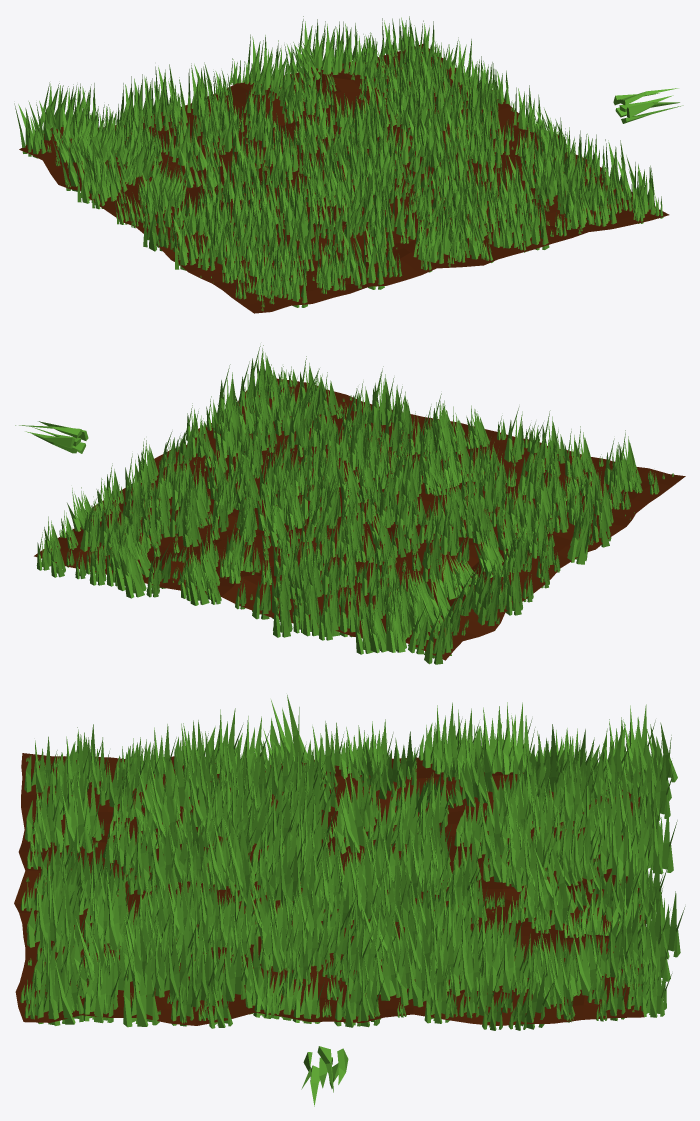
File: grass.fbx
3 views of the same model, one above another, from view 1: azimuth 30°, elevation 25°; view 2: azimuth 150°, elevation 25°; view 3: azimuth 270°, elevation 25° (orthographic). The views are drawn at different scales.
Parts seen in each view (by area): view 1: Plane, Grass, Plane|Grass|Dupli|912.0.0.0.0.0.0.0.0.0, Plane|Grass|Dupli|510.0.0.0.0.0.0.0.0.0, Plane|Grass|Dupli|917.0.0.0.0.0.0.0.0.0, Plane|Grass|Dupli|627.0.0.0.0.0.0.0.0.0, Plane|Grass|Dupli|881.0.0.0.0.0.0.0.0.0, Plane|Grass|Dupli|890.0.0.0.0.0.0.0.0.0, Plane|Grass|Dupli|746.0.0.0.0.0.0.0.0.0, Plane|Grass|Dupli|767.0.0.0.0.0.0.0.0.0, Plane|Grass|Dupli|994.0.0.0.0.0.0.0.0.0, Plane|Grass|Dupli|660.0.0.0.0.0.0.0.0.0 (+17 smaller); view 2: Plane, Grass, Plane|Grass|Dupli|944.0.0.0.0.0.0.0.0.0, Plane|Grass|Dupli|912.0.0.0.0.0.0.0.0.0, Plane|Grass|Dupli|994.0.0.0.0.0.0.0.0.0, Plane|Grass|Dupli|955.0.0.0.0.0.0.0.0.0, Plane|Grass|Dupli|964.0.0.0.0.0.0.0.0.0, Plane|Grass|Dupli|985.0.0.0.0.0.0.0.0.0, Plane|Grass|Dupli|988.0.0.0.0.0.0.0.0.0, Plane|Grass|Dupli|99.0.0.0.0.0.0.0.0.0, Plane|Grass|Dupli|247.0.0.0.0.0.0.0.0.0, Plane|Grass|Dupli|971.0.0.0.0.0.0.0.0.0 (+12 smaller); view 3: Plane, Plane|Grass|Dupli|251.0.0.0.0.0.0.0.0.0, Grass, Plane|Grass|Dupli|964.0.0.0.0.0.0.0.0.0, Plane|Grass|Dupli|99.0.0.0.0.0.0.0.0.0, Plane|Grass|Dupli|314.0.0.0.0.0.0.0.0.0, Plane|Grass|Dupli|250.0.0.0.0.0.0.0.0.0, Plane|Grass|Dupli|627.0.0.0.0.0.0.0.0.0, Plane|Grass|Dupli|503.0.0.0.0.0.0.0.0.0, Plane|Grass|Dupli|341.0.0.0.0.0.0.0.0.0, Plane|Grass|Dupli|247.0.0.0.0.0.0.0.0.0, Plane|Grass|Dupli|111.0.0.0.0.0.0.0.0.0 (+93 smaller).
Boxes of the visible parts, <box> form: Plane: <box>19,44,669,313</box>; Grass: <box>613,88,683,123</box>; Plane|Grass|Dupli|912.0.0.0.0.0.0.0.0.0: <box>143,200,164,251</box>; Plane|Grass|Dupli|510.0.0.0.0.0.0.0.0.0: <box>527,196,549,250</box>; Plane|Grass|Dupli|917.0.0.0.0.0.0.0.0.0: <box>173,219,195,270</box>; Plane|Grass|Dupli|627.0.0.0.0.0.0.0.0.0: <box>391,186,412,236</box>; Plane|Grass|Dupli|881.0.0.0.0.0.0.0.0.0: <box>56,138,82,191</box>; Plane|Grass|Dupli|890.0.0.0.0.0.0.0.0.0: <box>92,152,116,201</box>; Plane|Grass|Dupli|746.0.0.0.0.0.0.0.0.0: <box>364,239,384,289</box>; Plane|Grass|Dupli|767.0.0.0.0.0.0.0.0.0: <box>172,117,193,167</box>; Plane|Grass|Dupli|994.0.0.0.0.0.0.0.0.0: <box>14,101,41,153</box>; Plane|Grass|Dupli|660.0.0.0.0.0.0.0.0.0: <box>218,107,239,152</box>; Plane: <box>34,378,685,660</box>; Grass: <box>15,421,88,453</box>; Plane|Grass|Dupli|944.0.0.0.0.0.0.0.0.0: <box>120,543,146,598</box>; Plane|Grass|Dupli|912.0.0.0.0.0.0.0.0.0: <box>567,507,591,564</box>; Plane|Grass|Dupli|994.0.0.0.0.0.0.0.0.0: <box>424,607,445,664</box>; Plane|Grass|Dupli|955.0.0.0.0.0.0.0.0.0: <box>186,545,209,605</box>; Plane|Grass|Dupli|964.0.0.0.0.0.0.0.0.0: <box>273,583,292,637</box>; Plane|Grass|Dupli|985.0.0.0.0.0.0.0.0.0: <box>339,577,358,637</box>; Plane|Grass|Dupli|988.0.0.0.0.0.0.0.0.0: <box>388,599,406,652</box>; Plane|Grass|Dupli|99.0.0.0.0.0.0.0.0.0: <box>504,406,524,462</box>; Plane|Grass|Dupli|247.0.0.0.0.0.0.0.0.0: <box>80,498,99,551</box>; Plane|Grass|Dupli|971.0.0.0.0.0.0.0.0.0: <box>303,582,319,636</box>; Plane: <box>14,753,645,1025</box>; Plane|Grass|Dupli|251.0.0.0.0.0.0.0.0.0: <box>123,952,159,1027</box>; Grass: <box>301,1046,348,1106</box>; Plane|Grass|Dupli|964.0.0.0.0.0.0.0.0.0: <box>643,804,677,874</box>; Plane|Grass|Dupli|99.0.0.0.0.0.0.0.0.0: <box>55,783,92,853</box>; Plane|Grass|Dupli|314.0.0.0.0.0.0.0.0.0: <box>83,956,120,1023</box>; Plane|Grass|Dupli|250.0.0.0.0.0.0.0.0.0: <box>52,954,83,1025</box>; Plane|Grass|Dupli|627.0.0.0.0.0.0.0.0.0: <box>143,824,177,891</box>; Plane|Grass|Dupli|503.0.0.0.0.0.0.0.0.0: <box>97,880,133,950</box>; Plane|Grass|Dupli|341.0.0.0.0.0.0.0.0.0: <box>492,926,528,993</box>; Plane|Grass|Dupli|247.0.0.0.0.0.0.0.0.0: <box>568,929,601,996</box>; Plane|Grass|Dupli|111.0.0.0.0.0.0.0.0.0: <box>336,790,371,854</box>.
Size of the model in its own units: 2148 by 245 by 1731.
